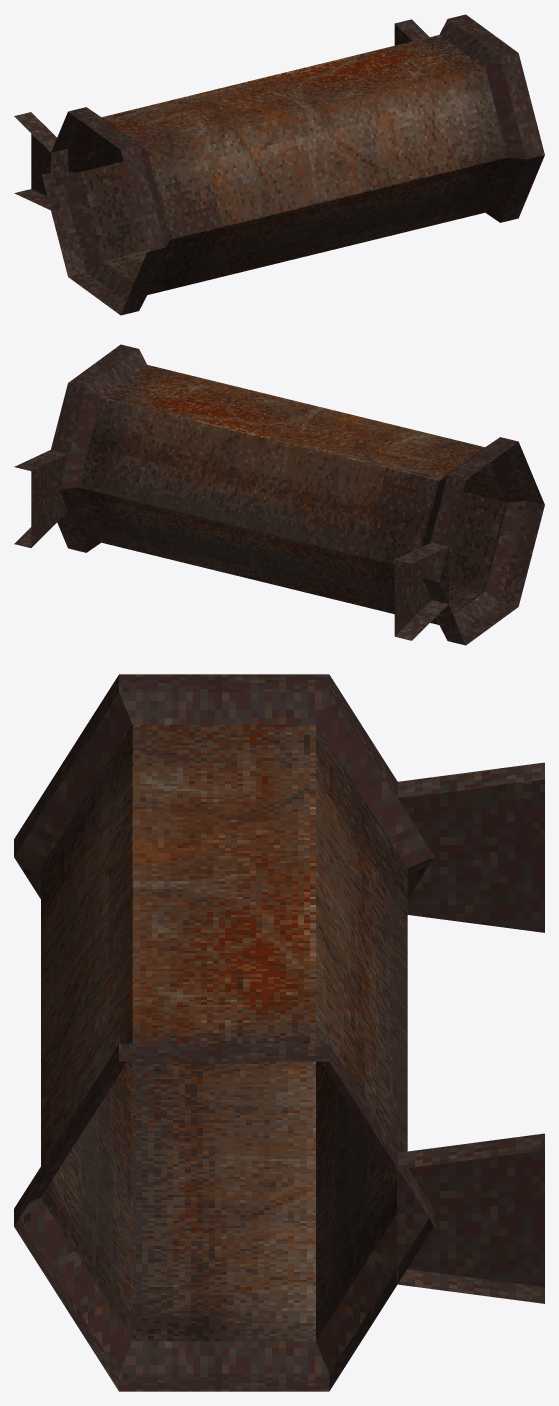
Rendered from pipe.glb.
3 renders of one model, top to bottom at view 1: azimuth 30°, elevation 25°; view 2: azimuth 150°, elevation 25°; view 3: azimuth 270°, elevation 25°, orthographic. The views are drawn at different scales.
Parts seen in each view (by area): view 1: pipe; view 2: pipe; view 3: pipe.
Part boxes in pixels (x1,y1,x2,y2): pipe: (14,14,544,315); pipe: (14,344,544,645); pipe: (14,674,544,1391).
Size of what is drawn, in the model's own units: 2 by 0.7947 by 1.16.
Materials: 1 (1 with a texture image).
